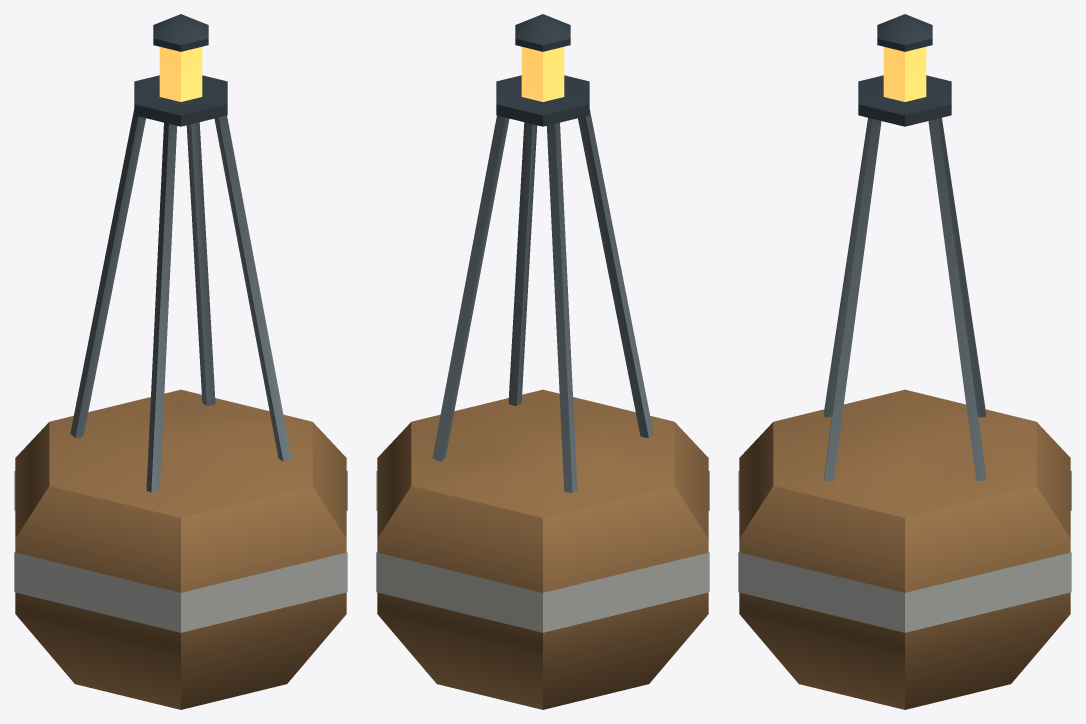
Rendered from harbour-buoy.lod2.glb.
3 views of the same model, side by side, from view 1: azimuth 30°, elevation 25°; view 2: azimuth 150°, elevation 25°; view 3: azimuth 270°, elevation 25° (orthographic).
Visible parts, largest first — view 1: structure, lamp; view 2: structure, lamp; view 3: structure, lamp.
Boxes of the visible parts, x1=… form: structure: x1=14, y1=75, x2=347, y2=709; lamp: x1=153, y1=14, x2=208, y2=101; structure: x1=376, y1=75, x2=709, y2=709; lamp: x1=515, y1=14, x2=570, y2=101; structure: x1=738, y1=75, x2=1071, y2=709; lamp: x1=877, y1=14, x2=932, y2=101.
Size of the model in its own units: 1.57 by 2.95 by 1.36.
